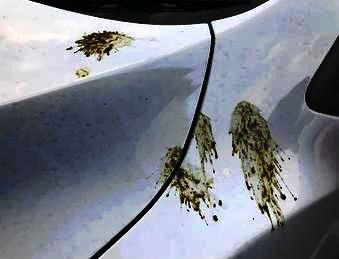Bird Poop: (232, 101, 296, 228), (164, 146, 221, 218), (74, 31, 132, 60), (193, 112, 216, 168), (75, 68, 89, 77), (66, 46, 71, 49), (214, 215, 217, 220)
